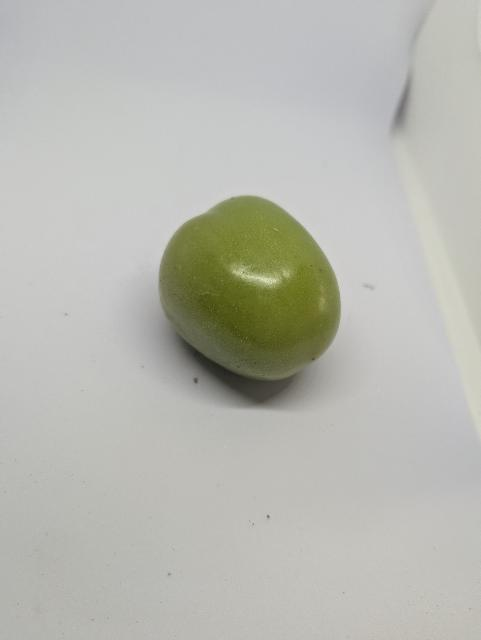green: (131, 185, 358, 391)
